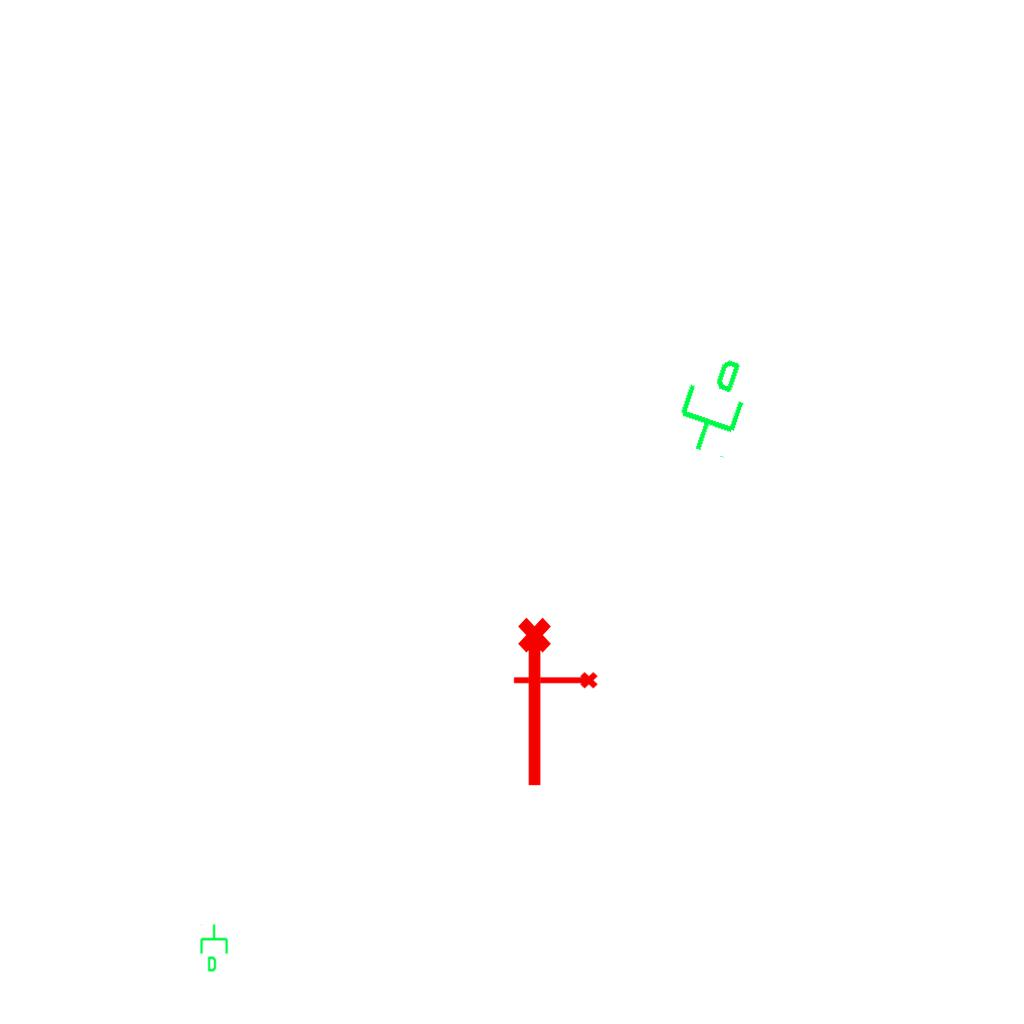ASR_Ansaugoeffnung: (514, 615, 560, 791), (511, 670, 599, 693)
Datenanschluss_einfach: (662, 345, 761, 463), (198, 923, 232, 973)
